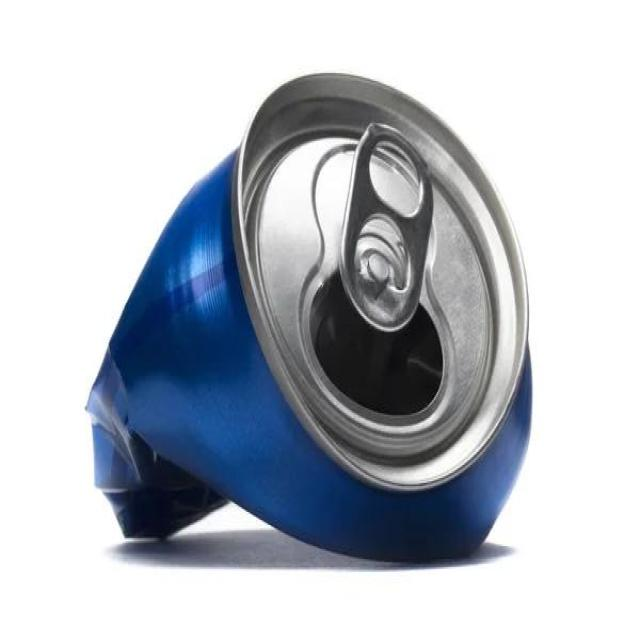can: (84, 70, 533, 565)
pop tab: (340, 125, 436, 335)
